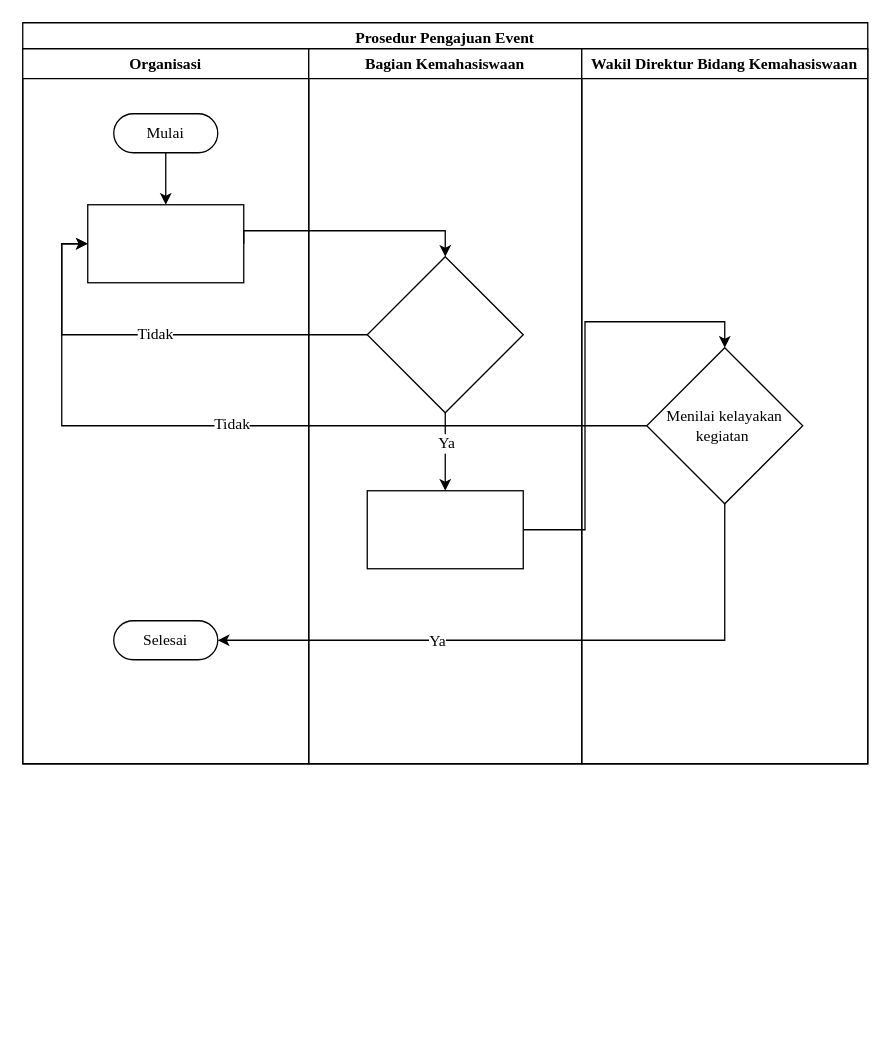
Some shapes in this 890 by 1047 pixel diagram are drawn without their labels. The centre of each missing label's shape, as x and y in pixels:
"Membuat proposal kegiatan" belongs at (x=165, y=243).
"Mencatat administrasi proposal" belongs at (x=444, y=529).
"Verifikasi proposal dan jadwal tersedia" belongs at (x=444, y=334).
